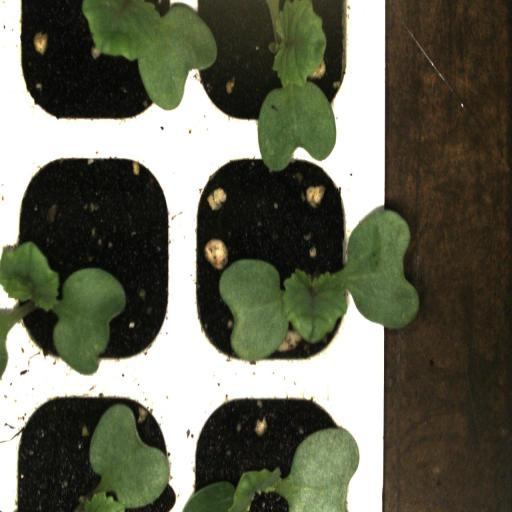seedling: (2, 142, 183, 367), (182, 146, 362, 370), (0, 369, 184, 512), (184, 366, 360, 512), (186, 0, 364, 144)
